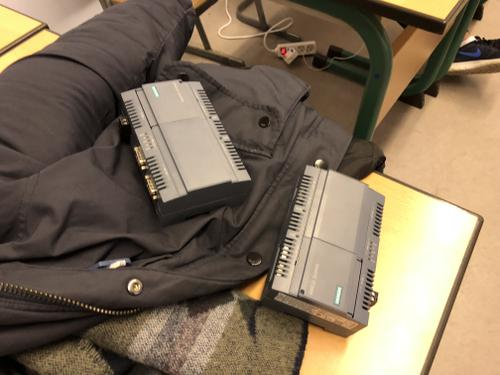device: (258, 164, 385, 338), (118, 78, 251, 227)
